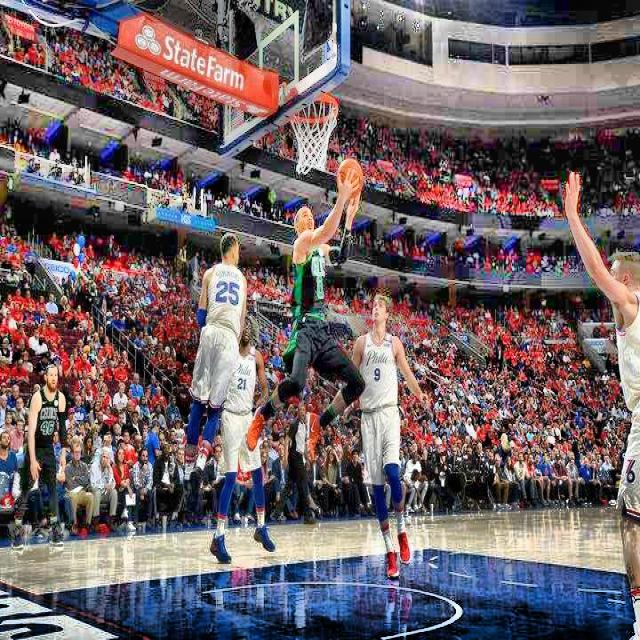rim: (285, 93, 339, 175)
